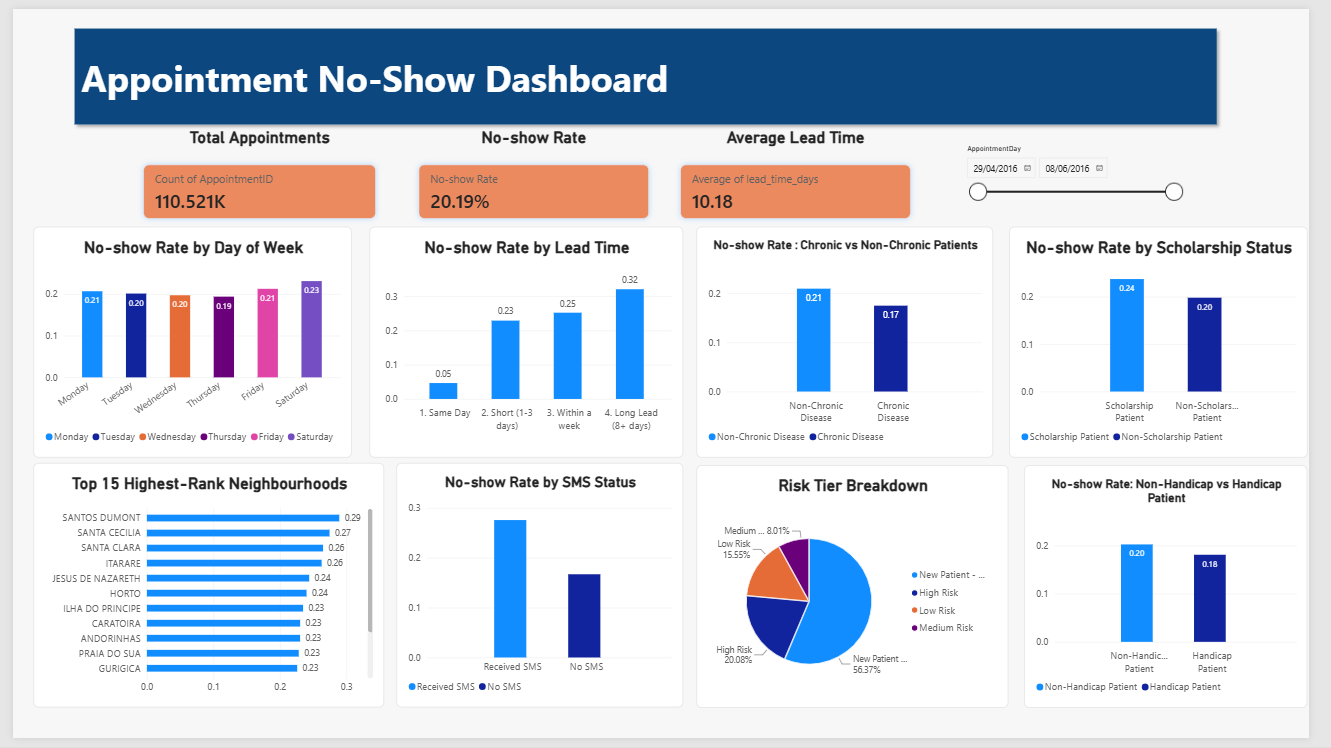

This screenshot's page, from the dashboard's own definition file:
{"tool":"powerbi","page":{"name":"Page 1","canvas":[1920,1080],"ordinal":0},"visuals":[{"type":"cardVisual","title":"Total Appointments","fields":{"Data":["CountNonNull(medicalappointment.AppointmentID)"]},"box":[182.5,175,366.7,146.7],"z":0},{"type":"cardVisual","title":"No-show Rate","fields":{"Data":["medicalappointment.No-show Rate"]},"box":[590,175,363.3,146.7],"z":1},{"type":"cardVisual","title":"Average Lead Time","fields":{"Data":["Avg(medicalappointment.lead_time_days)"]},"box":[977.5,175,363.3,146.7],"z":2},{"type":"columnChart","title":"No-show Rate by Day of Week","fields":{"Category":["medicalappointment.Day Name"],"Series":["medicalappointment.Day Name"],"Y":["medicalappointment.No-show Rate"]},"box":[30,322.5,472.5,342.5],"z":3},{"type":"columnChart","title":"No-show Rate by Lead Time","fields":{"Category":["medicalappointment.Lead Time Bucket"],"Y":["medicalappointment.No-show Rate"]},"box":[527.5,322.5,465,342.5],"z":4},{"type":"shape","box":[25,0,1872.5,160],"z":5},{"type":"barChart","title":"Top 15 Highest-Rank Neighbourhoods","fields":{"Category":["medicalappointment.Neighbourhood"],"Y":["medicalappointment.No-show Rate"]},"box":[30,672.5,520,362.5],"z":6},{"type":"pieChart","title":"Risk Tier Breakdown","fields":{"Category":["v_appointment_risk.risk_tier"],"Y":["CountNonNull(v_appointment_risk.AppointmentID)"]},"box":[1012.5,675,462.5,360],"z":7},{"type":"columnChart","title":"No-show Rate : Chronic vs Non-Chronic Patients","fields":{"Category":["medicalappointment.Chronic Disease Status"],"Series":["medicalappointment.Chronic Disease Status"],"Y":["medicalappointment.No-show Rate"]},"box":[1012.5,322.5,440,342.5],"z":8},{"type":"columnChart","title":"No-show Rate: Non-Handicap vs Handicap Patient","fields":{"Category":["medicalappointment.Disability"],"Series":["medicalappointment.Disability"],"Y":["medicalappointment.No-show Rate"]},"box":[1497.5,675,420,360],"z":9},{"type":"columnChart","title":"No-show Rate by SMS Status","fields":{"Category":["medicalappointment.SMS Status"],"Series":["medicalappointment.SMS Status"],"Y":["medicalappointment.No-show Rate"]},"box":[567.5,672.5,425,362.5],"z":10},{"type":"slicer","fields":{"Values":["medicalappointment.AppointmentDay"]},"box":[1405,200,330,92.5],"z":11},{"type":"columnChart","title":"No-show Rate by Scholarship Status","fields":{"Category":["medicalappointment.Scholarship Status"],"Series":["medicalappointment.Scholarship Status"],"Y":["medicalappointment.No-show Rate"]},"box":[1475,322.5,442.5,342.5],"z":12}]}

Visuals, with their boxes in screenshot pixels (x1, y1, x2, y2), scaled from the page's 1920x1080 canvas onto the 1331x748 screenshot:
"Total Appointments" cardVisual: [x1=127, y1=121, x2=381, y2=223]
"No-show Rate" cardVisual: [x1=409, y1=121, x2=661, y2=223]
"Average Lead Time" cardVisual: [x1=678, y1=121, x2=929, y2=223]
"No-show Rate by Day of Week" columnChart: [x1=21, y1=223, x2=348, y2=461]
"No-show Rate by Lead Time" columnChart: [x1=366, y1=223, x2=688, y2=461]
shape: [x1=17, y1=0, x2=1315, y2=111]
"Top 15 Highest-Rank Neighbourhoods" barChart: [x1=21, y1=466, x2=381, y2=717]
"Risk Tier Breakdown" pieChart: [x1=702, y1=467, x2=1023, y2=717]
"No-show Rate : Chronic vs Non-Chronic Patients" columnChart: [x1=702, y1=223, x2=1007, y2=461]
"No-show Rate: Non-Handicap vs Handicap Patient" columnChart: [x1=1038, y1=467, x2=1329, y2=717]
"No-show Rate by SMS Status" columnChart: [x1=393, y1=466, x2=688, y2=717]
slicer - medicalappointment.AppointmentDay: [x1=974, y1=139, x2=1203, y2=203]
"No-show Rate by Scholarship Status" columnChart: [x1=1023, y1=223, x2=1329, y2=461]
